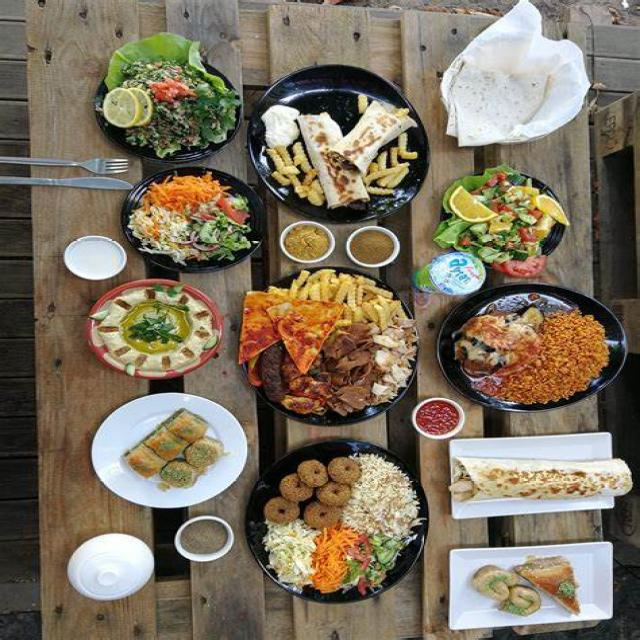burrito: (258, 80, 418, 214), (446, 450, 636, 507)
tortillas: (438, 53, 552, 156)
